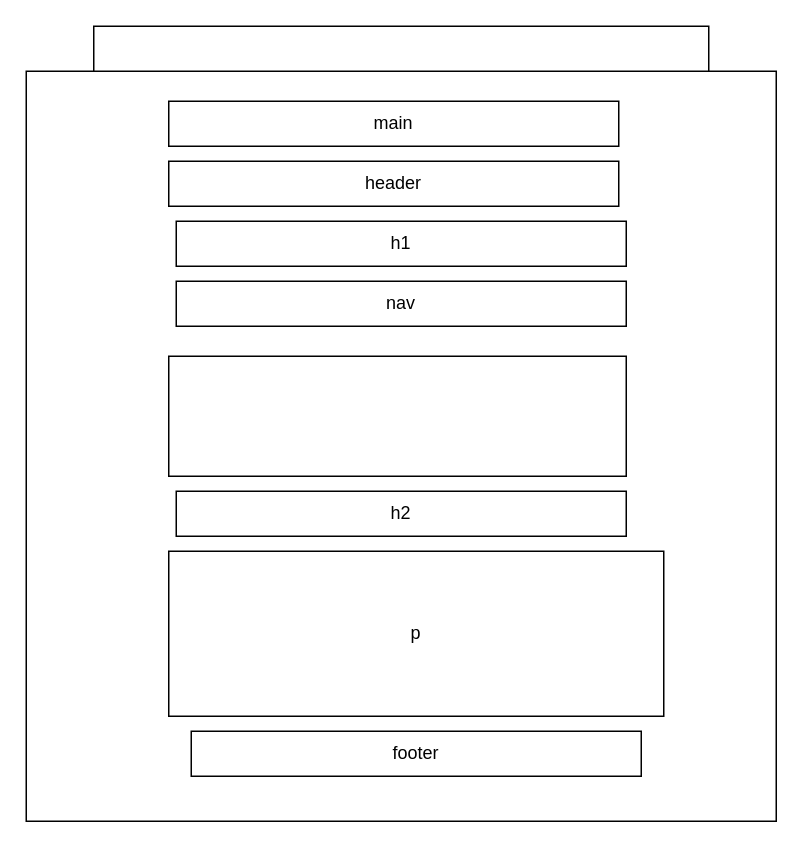
This 803x848 diagram has some shape labels left out. The box of each missing label's shape, as (x1, y1, x2, y2) in pixels:
image: (167, 355, 626, 476)
wire frame: (92, 25, 709, 71)
